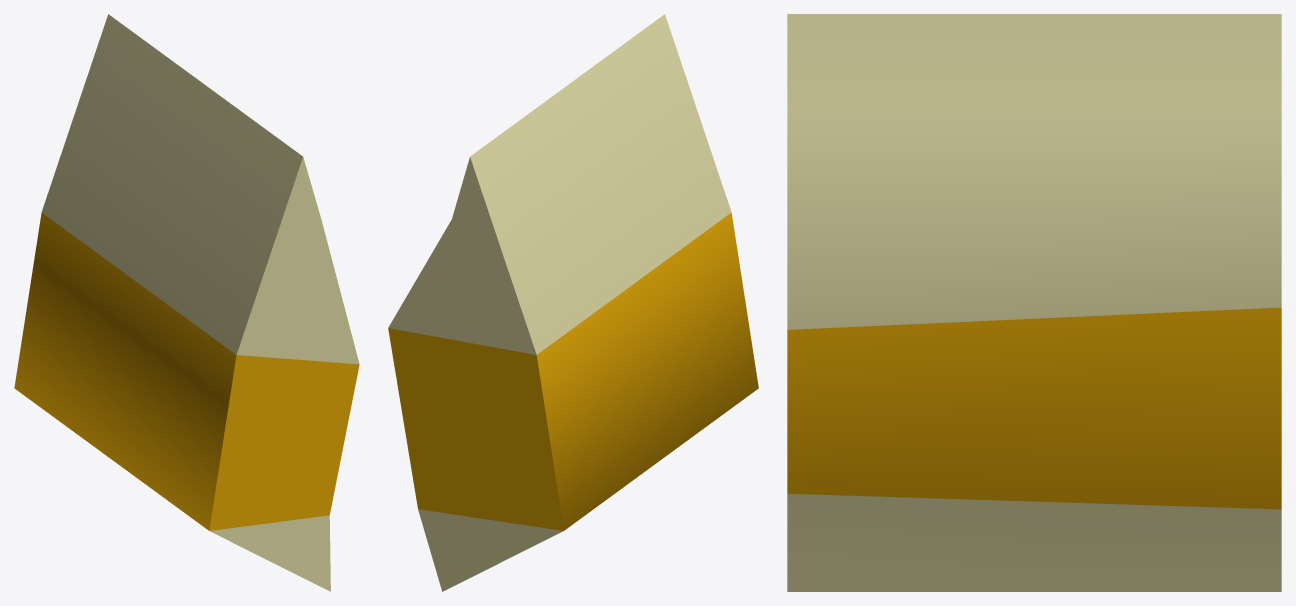
Rendered from Sweet Potato Chips.fbx.
3 views of the same model, side by side, from view 1: azimuth 30°, elevation 25°; view 2: azimuth 150°, elevation 25°; view 3: azimuth 270°, elevation 25° (orthographic). The views are drawn at different scales.
Visible parts, largest first — view 1: pCube5; view 2: pCube5; view 3: pCube5.
Part boxes in pixels (x1,y1,x2,y2): pCube5: (14,14,359,591); pCube5: (388,14,758,591); pCube5: (787,14,1281,591).
Size of the model in its own units: 1.61 by 3.86 by 3.08.
